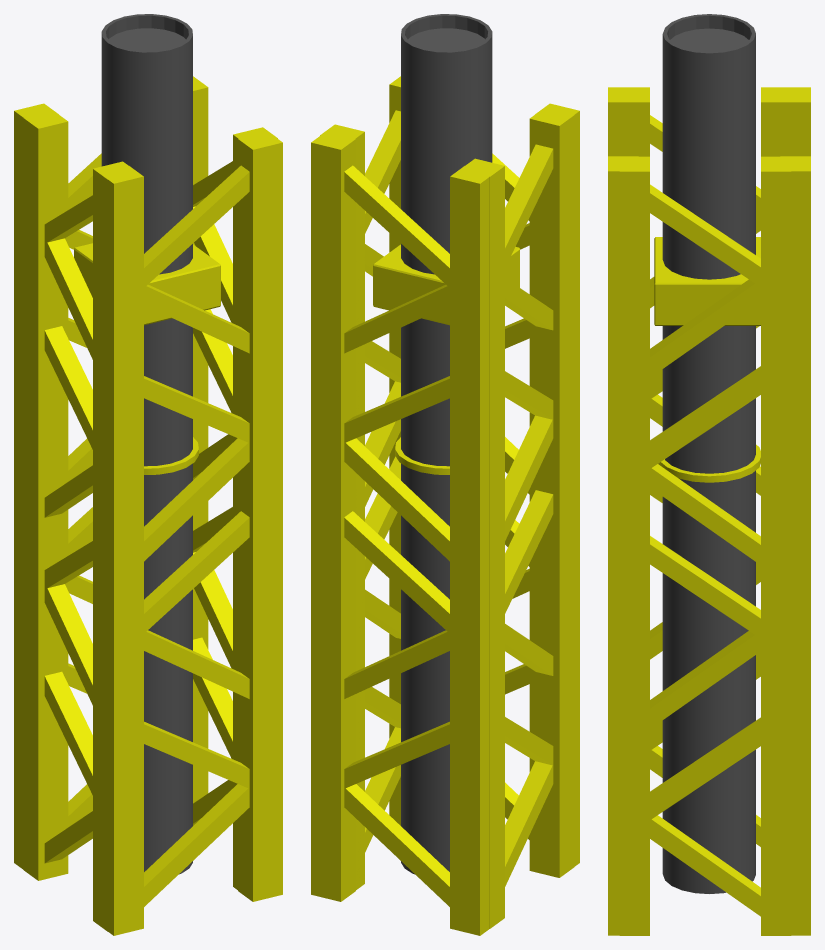
File: smoking_pillar.fbx
3 renders of one model, left to right at view 1: azimuth 30°, elevation 25°; view 2: azimuth 150°, elevation 25°; view 3: azimuth 270°, elevation 25°, orthographic.
Visible parts, largest first — view 1: smoking_pillar; view 2: smoking_pillar; view 3: smoking_pillar.
Boxes of the visible parts, bbox=[...] form: smoking_pillar: bbox=[14, 14, 282, 935]; smoking_pillar: bbox=[311, 14, 579, 935]; smoking_pillar: bbox=[608, 14, 810, 935].
Size of the model in its own units: 3.29 by 15.65 by 3.35.
